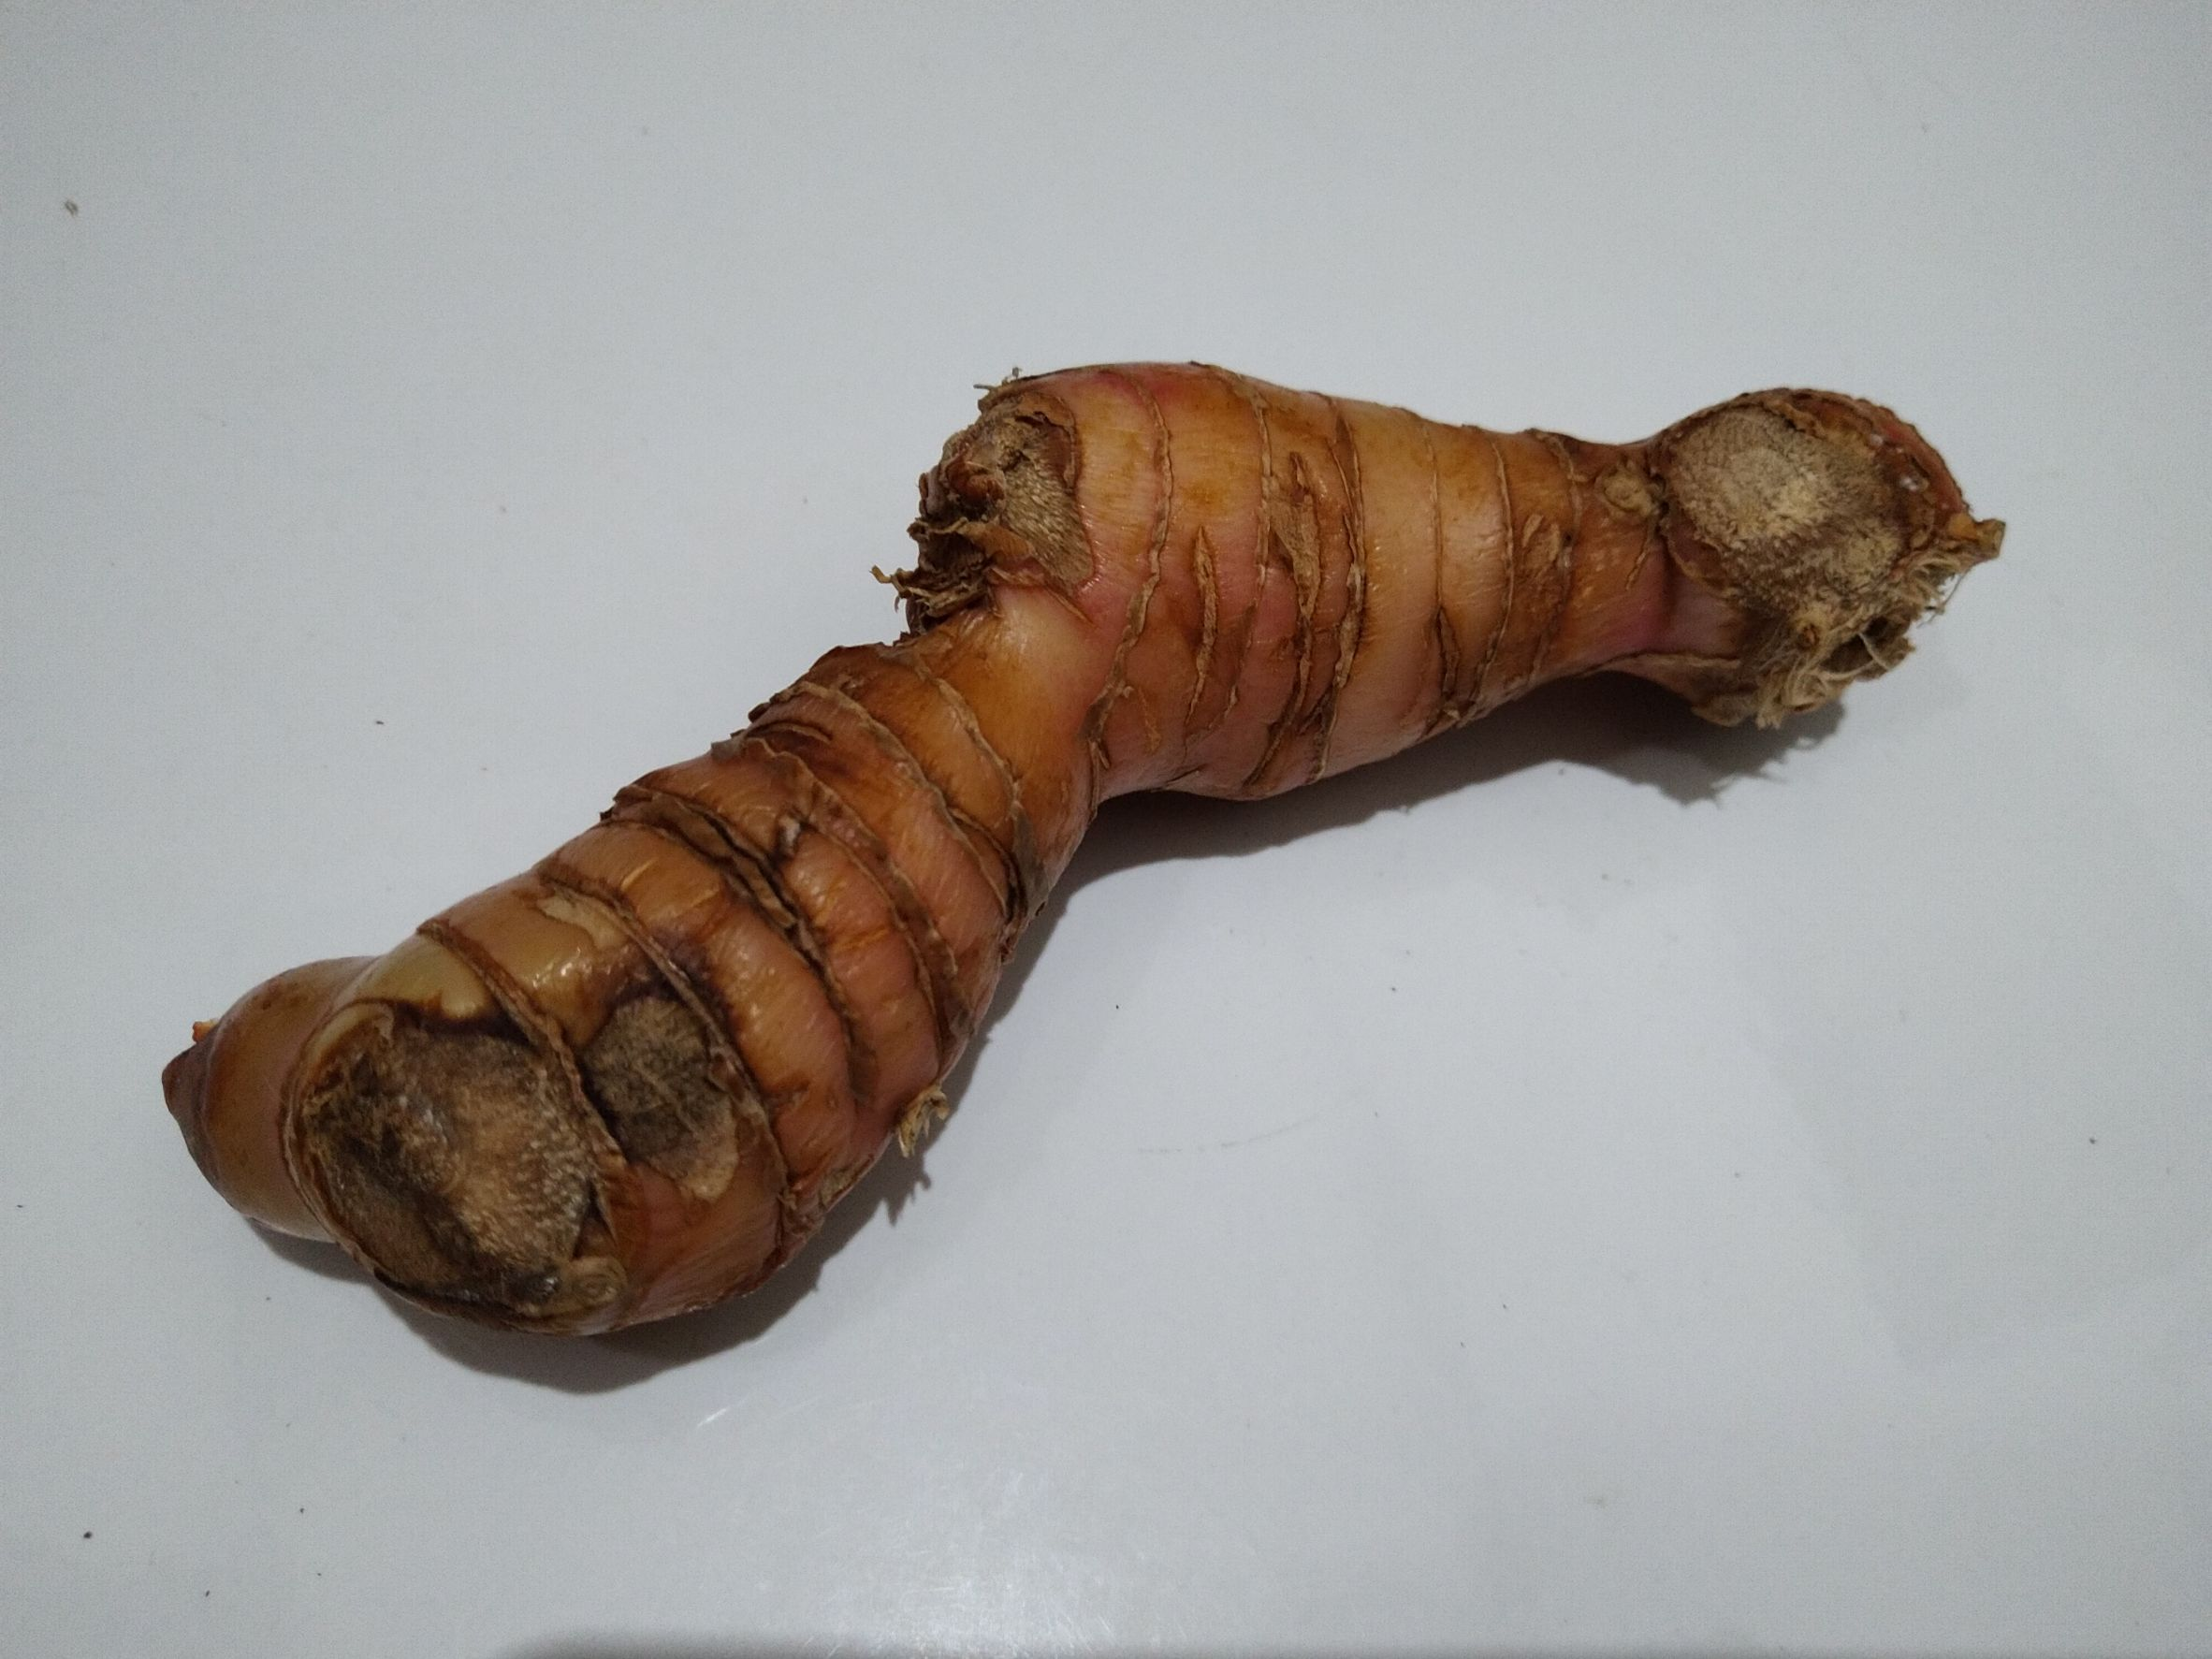Lengkuas: (164, 359, 2005, 1352)
